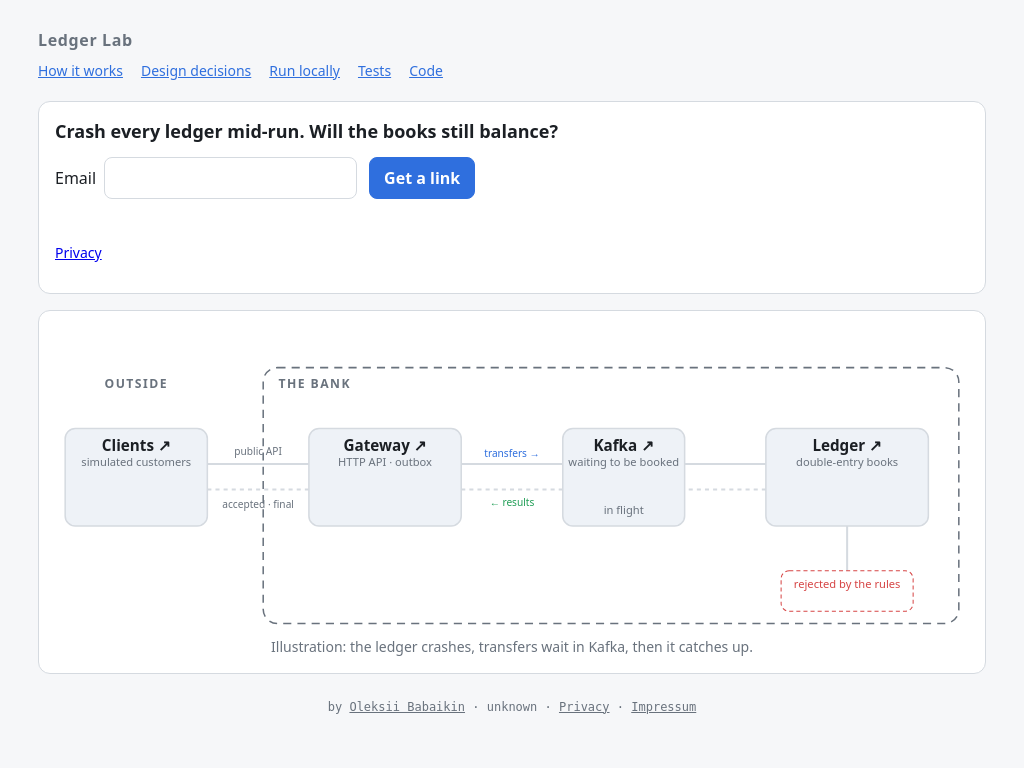
Test: the link form › marks the field when the address is refused in the browser, puts the cursor back in it and clears the mark once it looks right
Click the button "Get a link". click: click(422, 178)
box: [369,157,475,199]
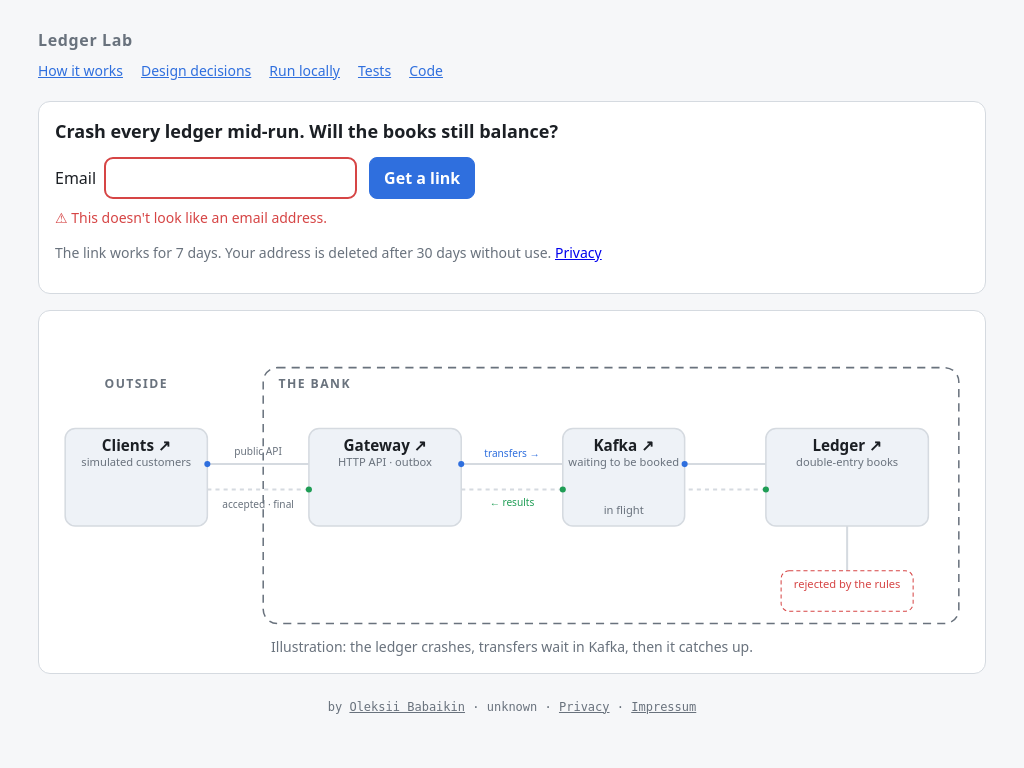
Now the field labelled "Email" is marked as invalid
Type "visitor@example" into the field labelled "Email". click: (231, 178)
box: [104,157,357,199]
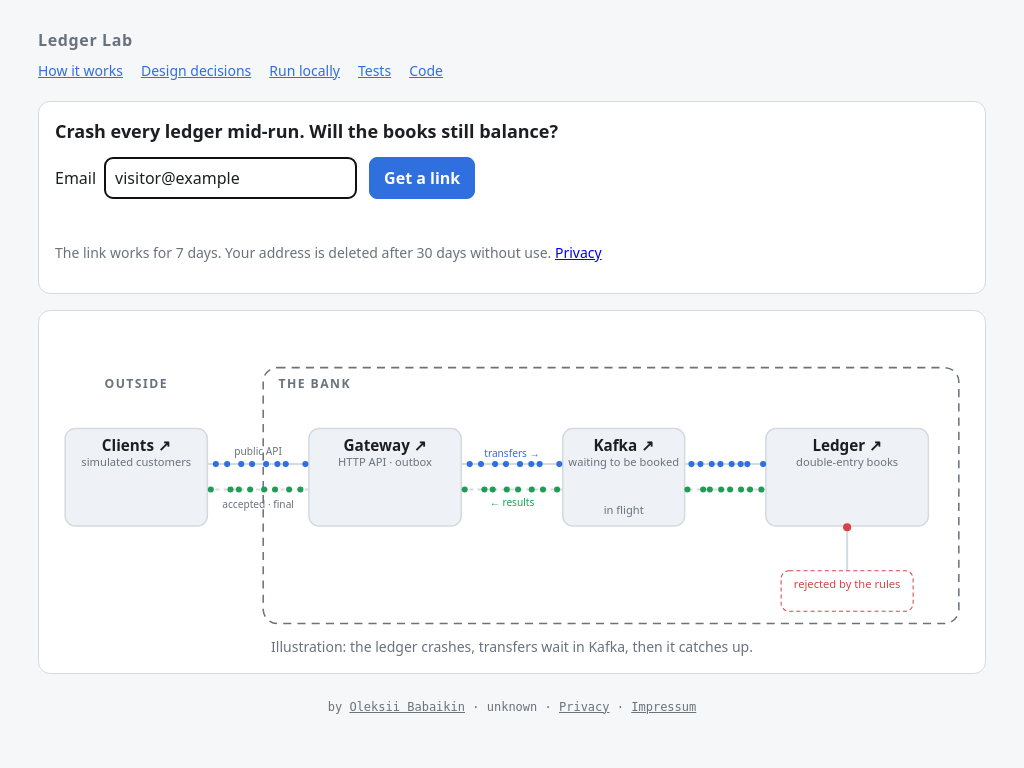
Now the message "⚠This doesn't look like an email address." is gone
